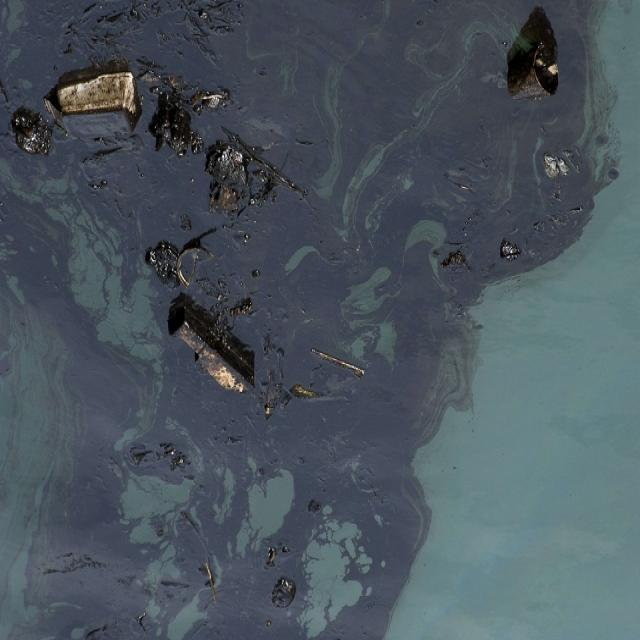sheen: (386, 1, 640, 640), (0, 293, 77, 639), (59, 201, 162, 439), (119, 476, 191, 638), (299, 522, 362, 639), (235, 472, 293, 558)
truecolor: (229, 2, 600, 563)
